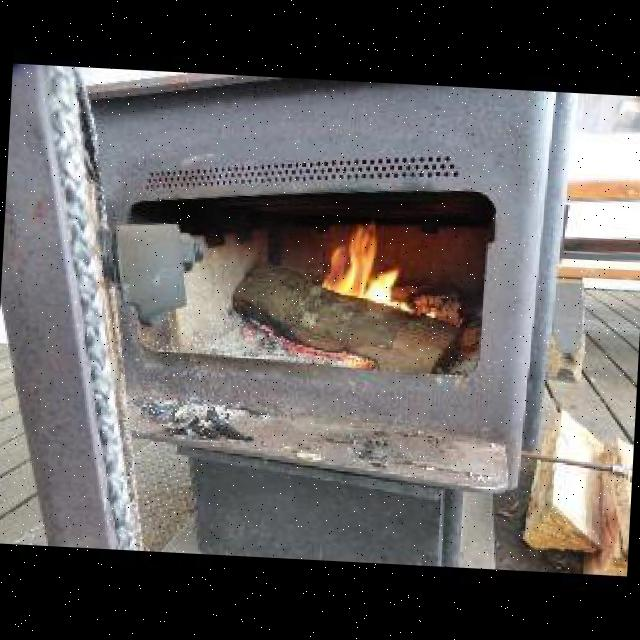fire: (320, 215, 426, 321)
